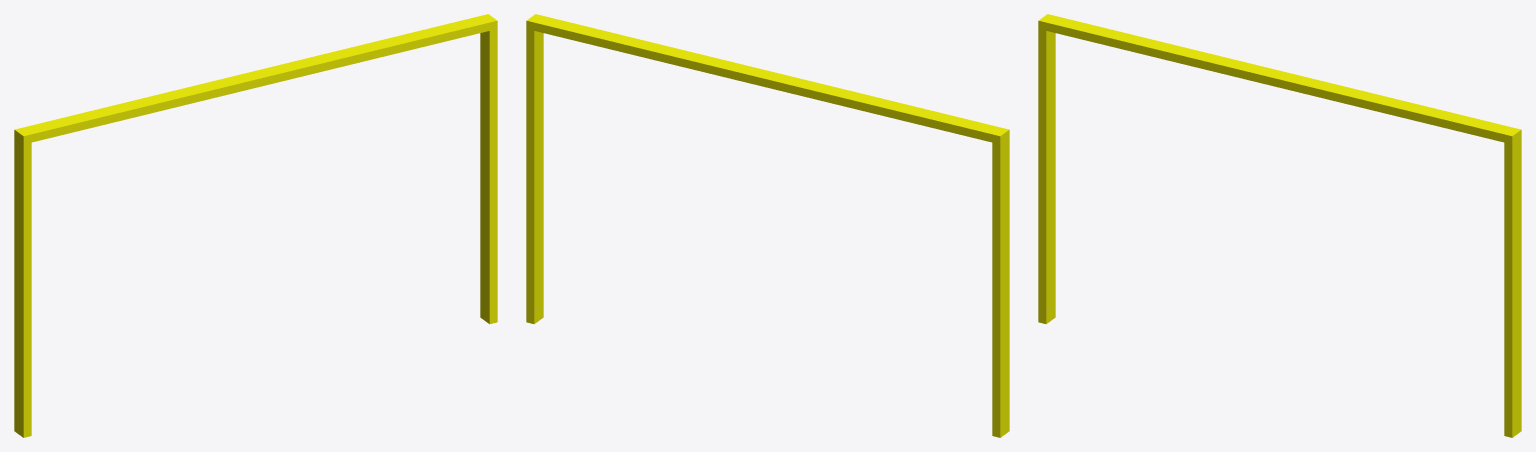
The model's file is RIGHT_link_mesh.dae.
3 renders of one model, left to right at view 1: azimuth 30°, elevation 25°; view 2: azimuth 150°, elevation 25°; view 3: azimuth 330°, elevation 25°, orthographic.
Parts seen in each view (by area): view 1: RIGHT_link; view 2: RIGHT_link; view 3: RIGHT_link.
Boxes of the visible parts, x1,y1,x2,y2 form: RIGHT_link: (14,14,497,437); RIGHT_link: (526,14,1009,437); RIGHT_link: (1038,14,1521,437).
Bounding box in the file's own units: 0.3 × 0.1825 × 0.01.
